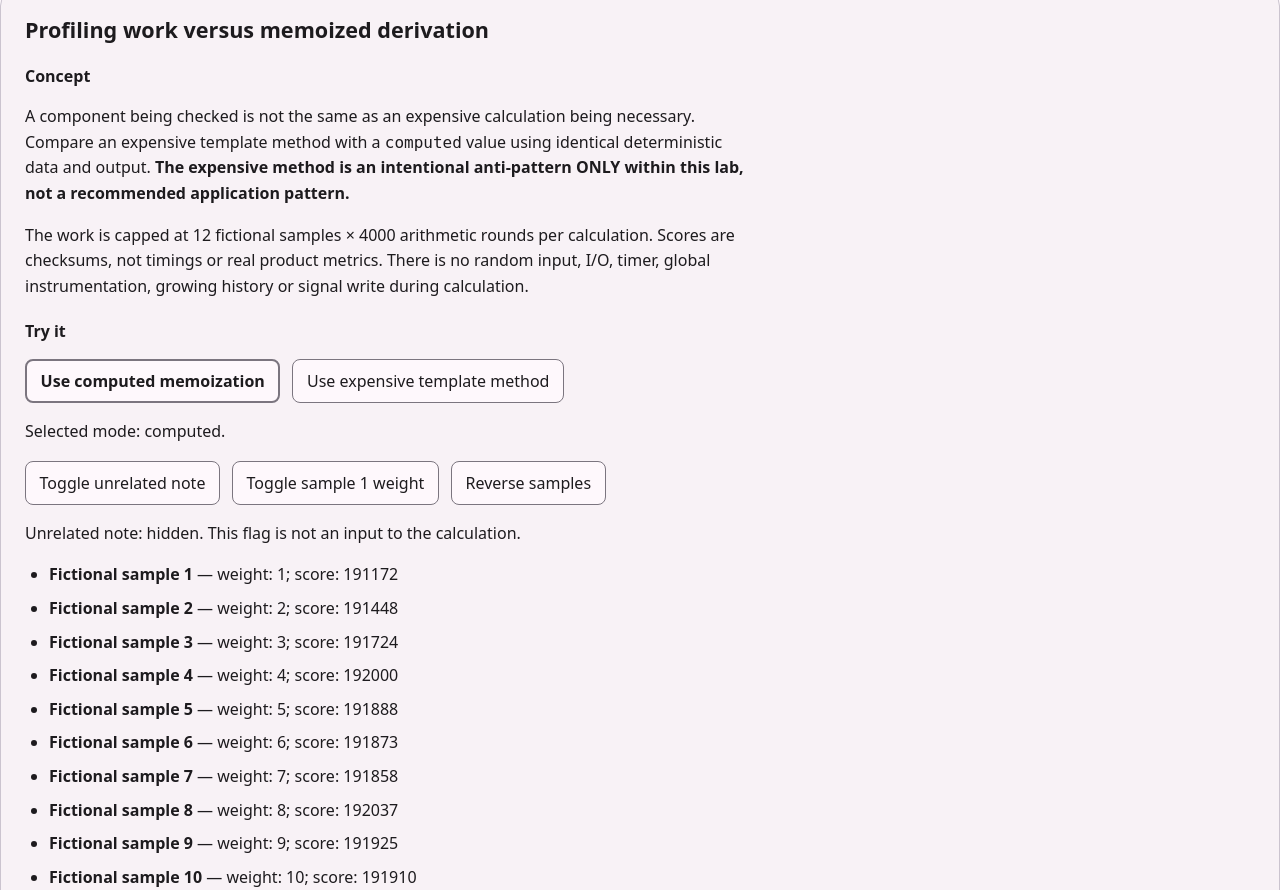
ProfilingLessonComponent › reverses a new array while moving existing DOM nodes by ID, not by index
Click the button "Reverse samples". click: (528,483)
box: [451,461,606,505]
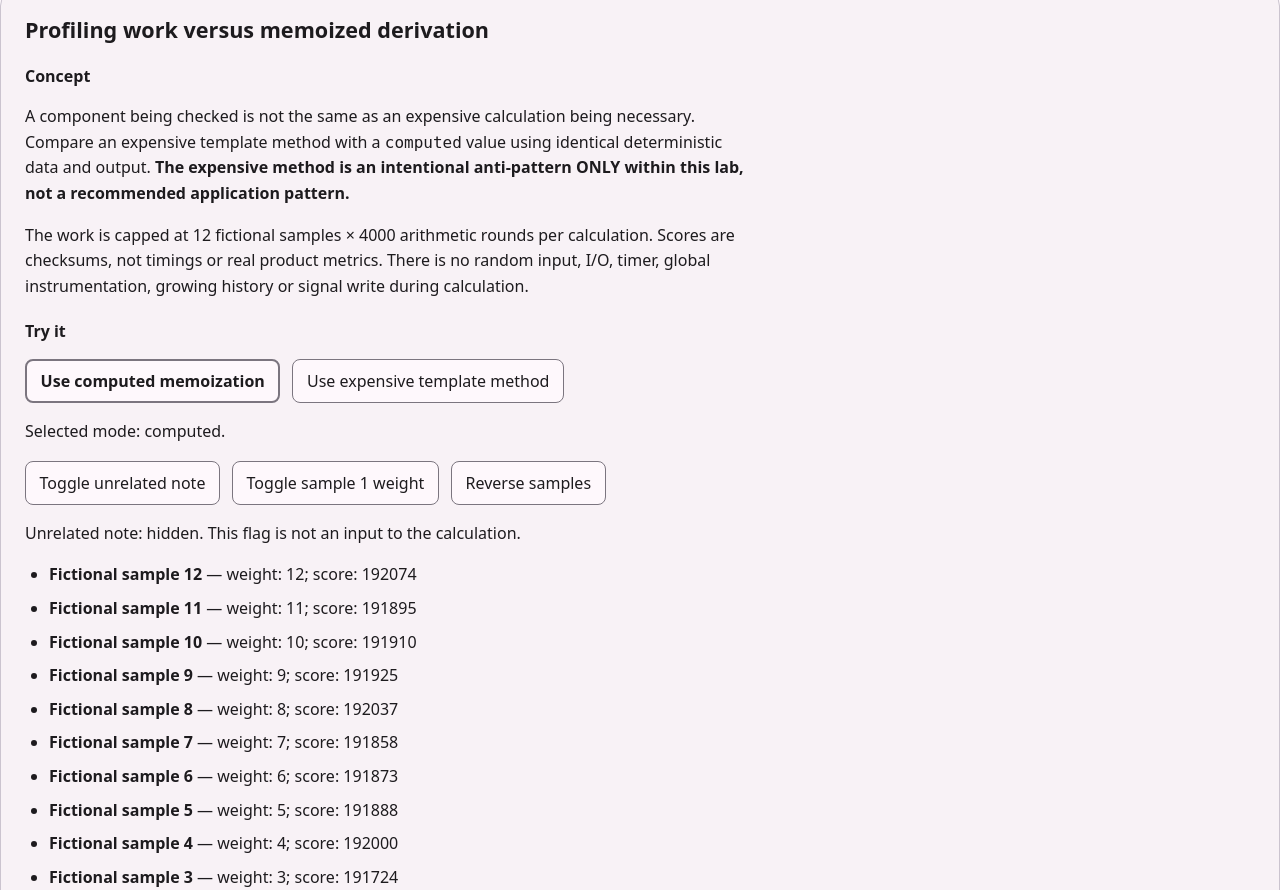
Click the button "Toggle sample 1 weight". click: (335,483)
box: [232,461,439,505]
(page scrolled)
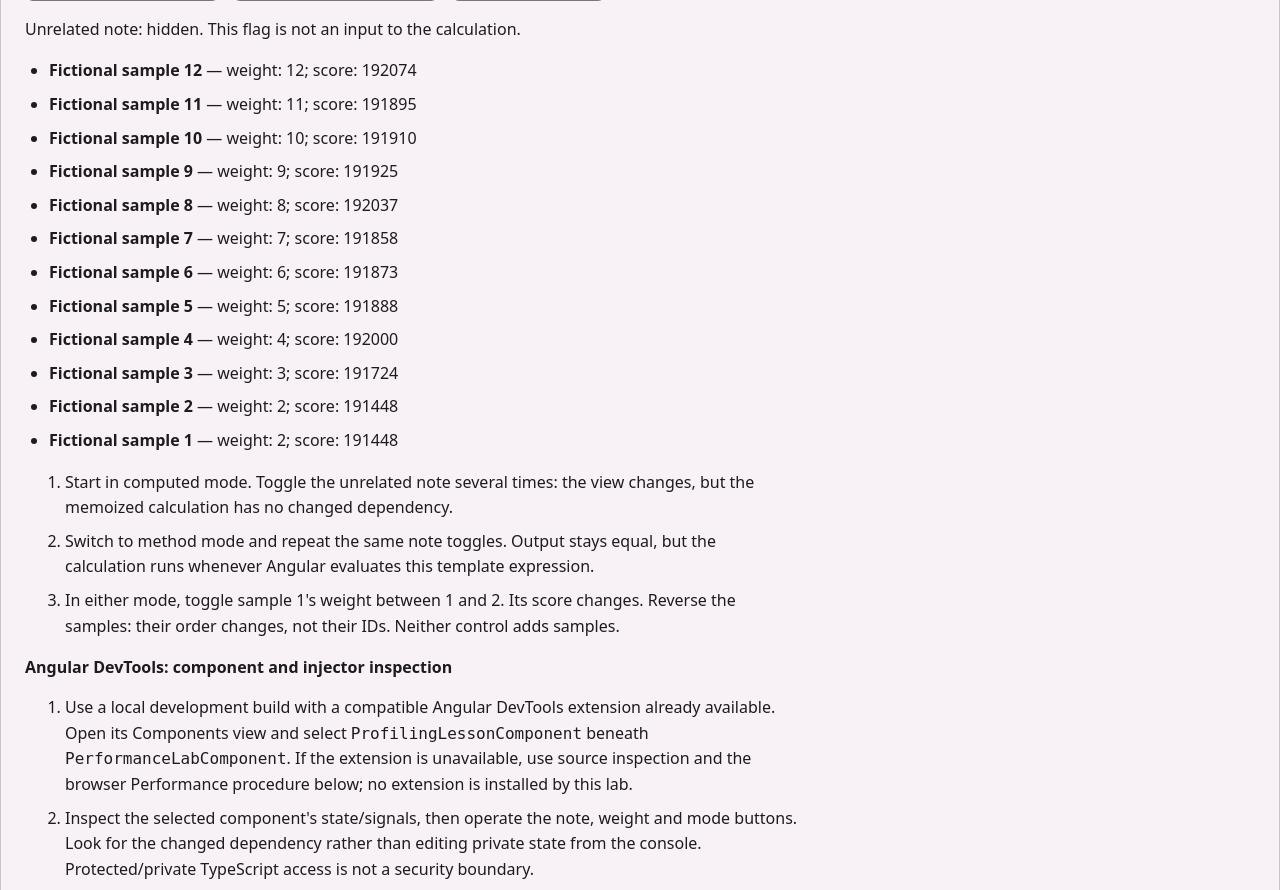
Expected: the 2nd text "2" is shown, [277,429,286,451]
